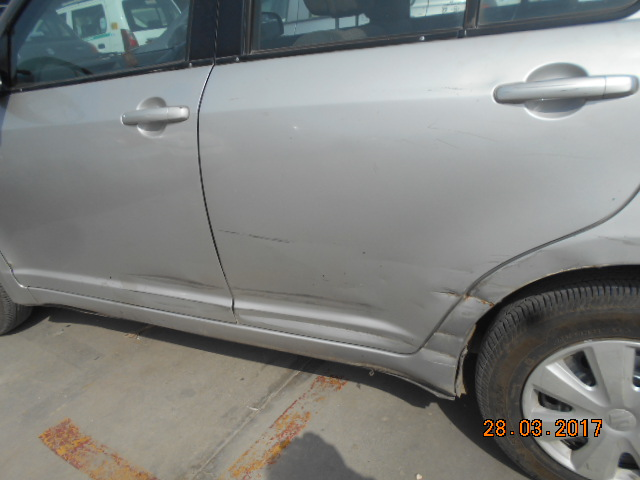Dent: (436, 322, 465, 345), (468, 288, 498, 308), (427, 349, 457, 363)
